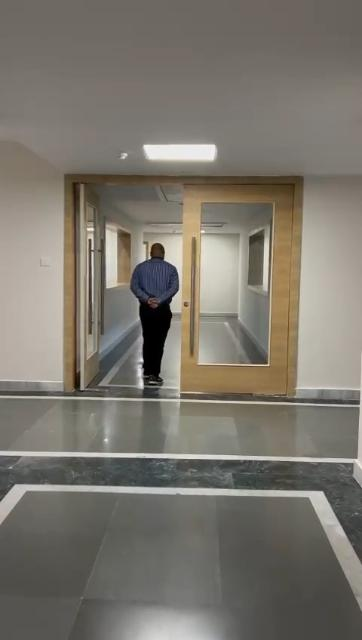door: (177, 184, 298, 390)
floor: (0, 398, 362, 640)
moving-obj: (122, 225, 198, 391)
wall: (0, 145, 62, 383), (304, 174, 362, 398)
